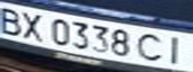0: (45, 16, 72, 47)
3: (66, 19, 93, 52), (87, 24, 112, 54)
8: (109, 26, 136, 59)
B: (0, 4, 27, 36)
C: (136, 30, 169, 63)
I: (160, 34, 193, 65)
X: (15, 9, 48, 42)
